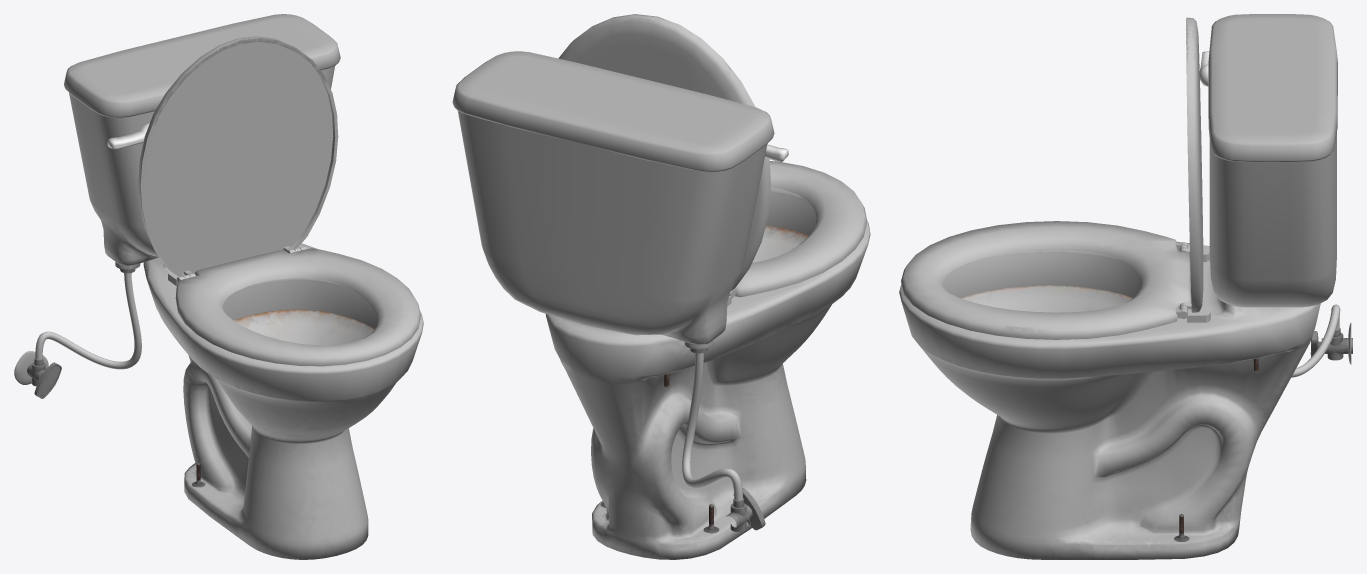
File: toilet.glb
The picture shows the model from 3 angles, left to right: view 1: azimuth 30°, elevation 25°; view 2: azimuth 150°, elevation 25°; view 3: azimuth 270°, elevation 25°; orthographic projection. The views are drawn at different scales.
Visible parts, largest first — view 1: Toilet_Toilet_0; view 2: Toilet_Toilet_0; view 3: Toilet_Toilet_0.
Boxes of the visible parts, box(x1,y1,x2,y2) form: Toilet_Toilet_0: box(14, 14, 423, 559); Toilet_Toilet_0: box(452, 14, 870, 559); Toilet_Toilet_0: box(899, 14, 1352, 559).
Size of the model in its own units: 0.5099 by 0.7925 by 0.647.
1 material, 1 textured.
